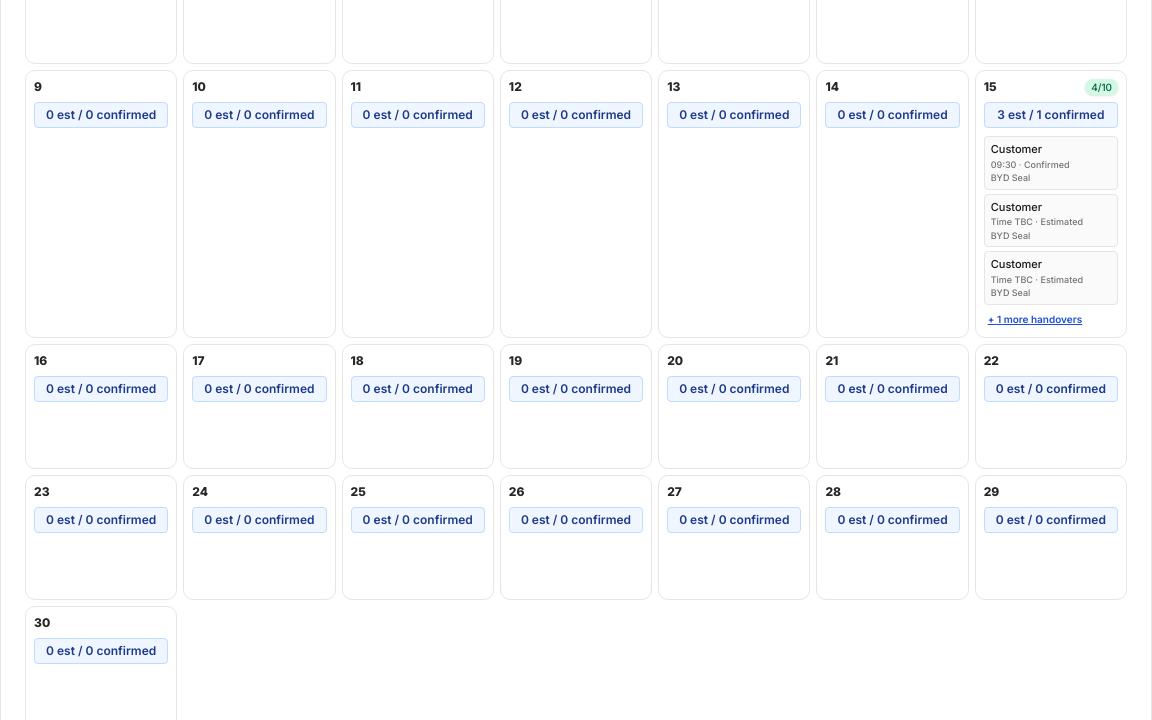
empty day opens and an available slot starts a confirmed booking
This screenshot has width=1152, height=720.
Later steps or results of the test are not shown.
(page scrolled)
Click the button "16".
click(41, 360)  # box x1=34 y1=352 x2=47 y2=368
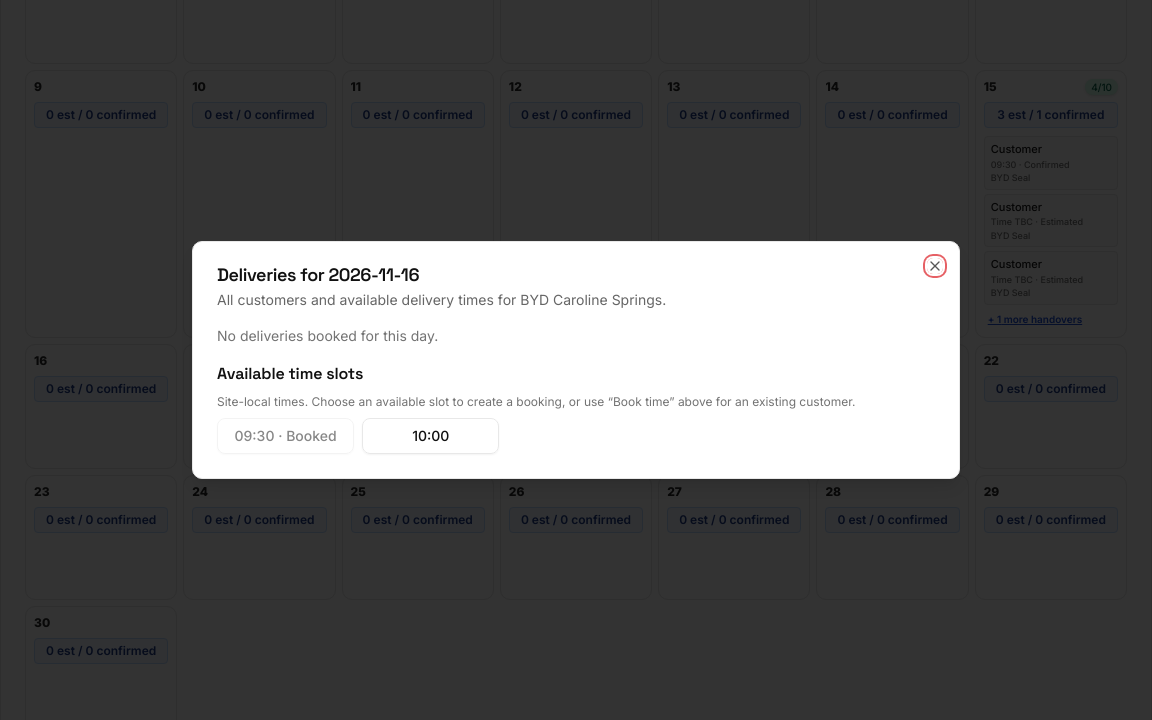
Check: the dialog shows "No deliveries booked", box x1=217 y1=327 x2=438 y2=344
Check: the button named "10:00 available" is shown, box x1=362 y1=418 x2=499 y2=454
